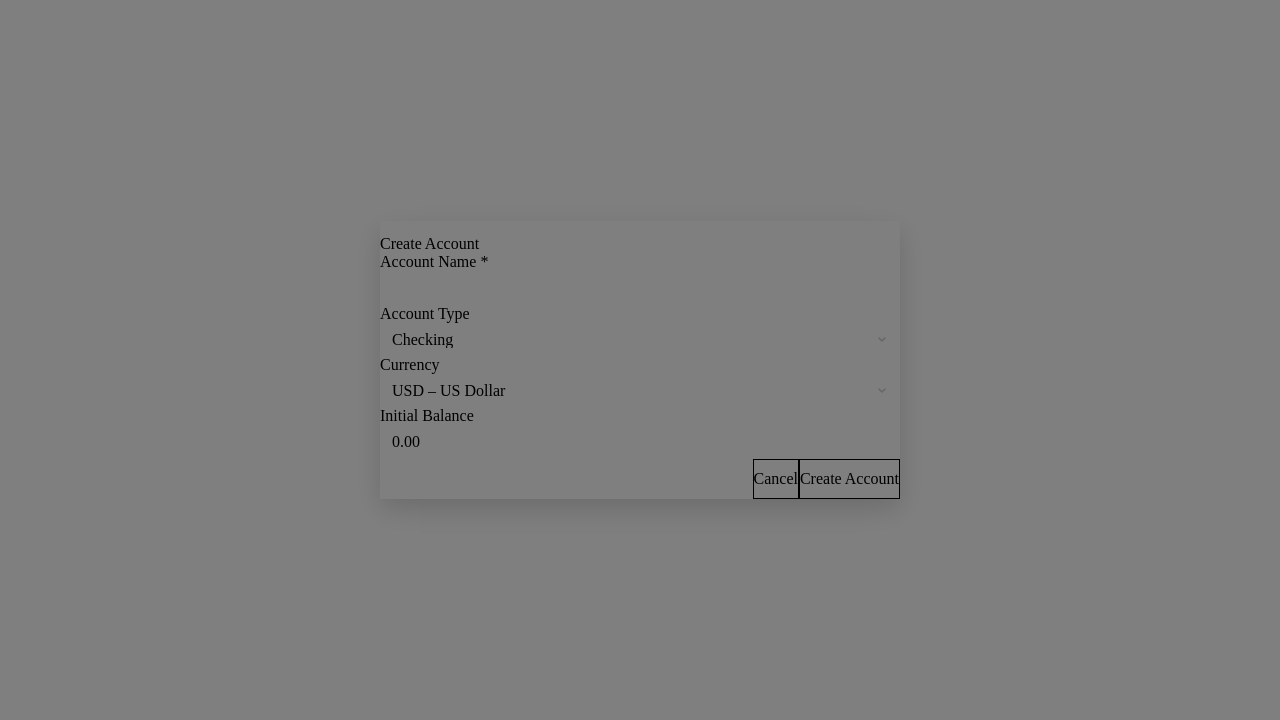
Test: AccountForm › validates the required account name field
The width and height of the screenshot is (1280, 720).
Click the button "Create Account". click: point(849, 479)
box: [799,459,900,499]
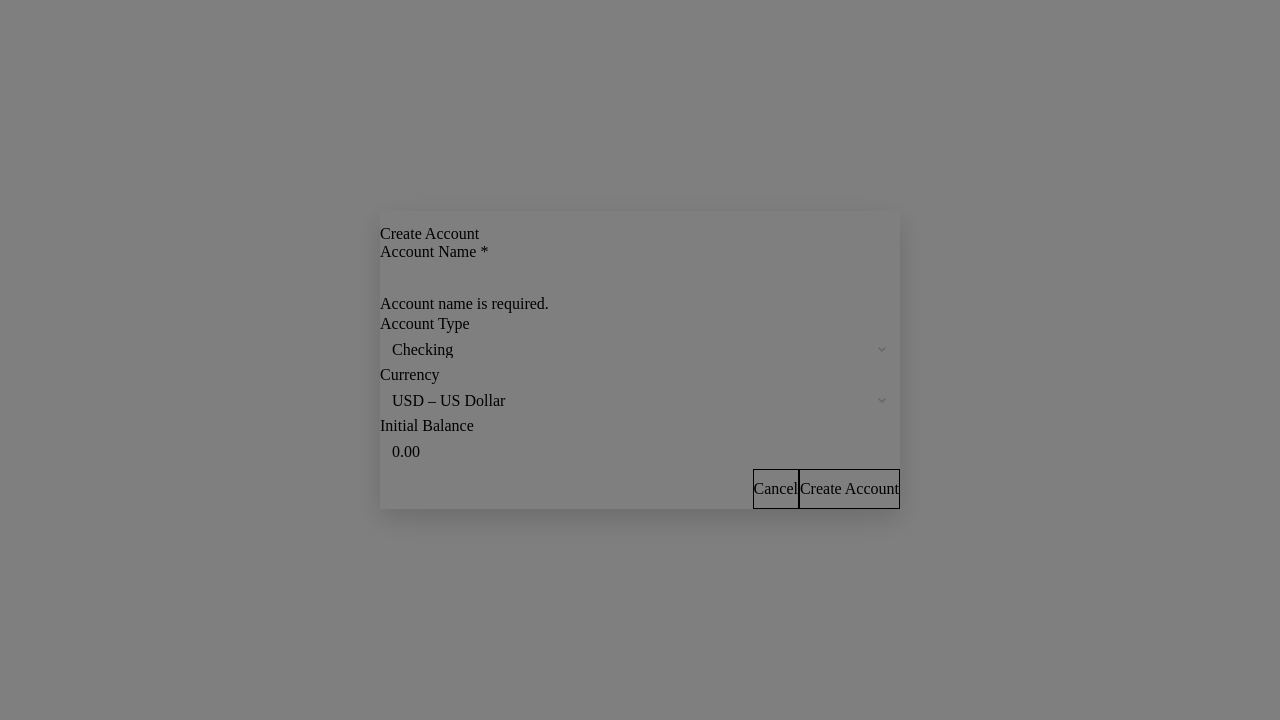
expect the text "Account name is required." is shown: met, box [380,295,549,312]
